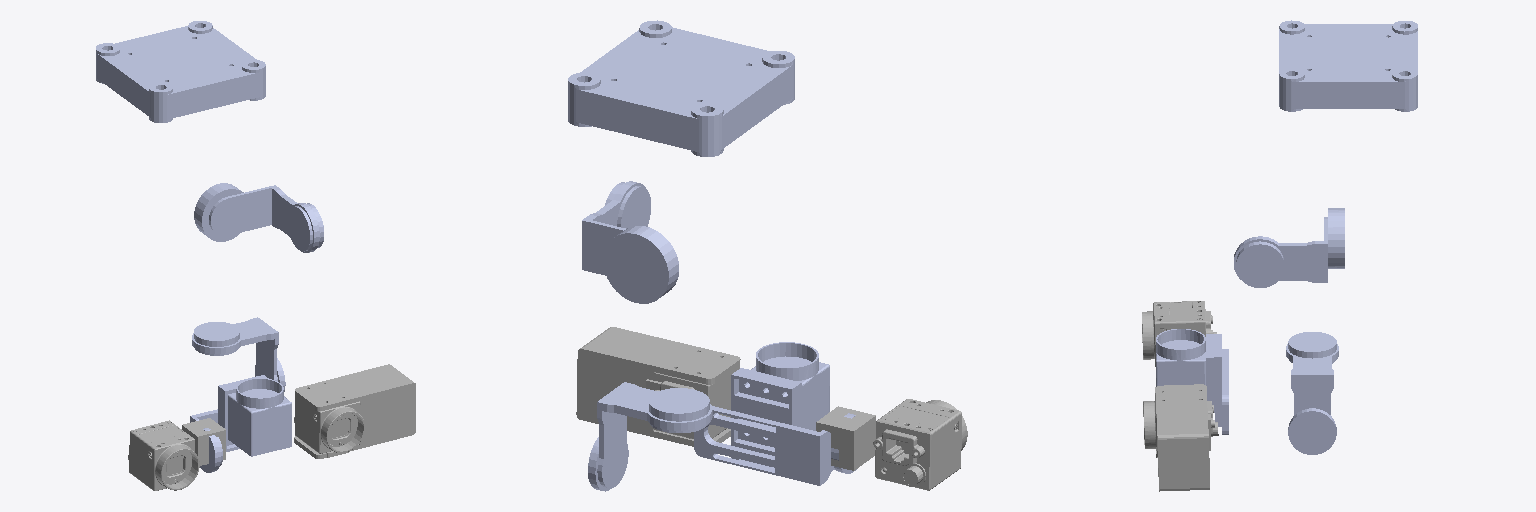
URDF robot description (gimbal_urdf):
<?xml version="1.0" encoding="utf-8"?>
<!-- This URDF was automatically created by SolidWorks to URDF Exporter! Originally created by [author] ([email redacted]) 
     Commit Version: 1.6.0-4-g7f85cfe  Build Version: 1.6.7995.38578
     For more information, please see http://wiki.ros.org/sw_urdf_exporter -->
<robot
  name="gimbal_urdf">
  
   <link name="world"/>
  
  
  <link
    name="base_link">
    <inertial>
      <origin
        xyz="-9.4300442725348E-07 4.57605877599437E-05 -0.0159368690056622"
        rpy="0 0 0" />
      <mass
        value="0.0910904317842352" />
      <inertia
        ixx="5.70945310228178E-05"
        ixy="-2.42380441346544E-07"
        ixz="6.8176655800599E-10"
        iyy="5.70921715553873E-05"
        iyz="-3.3085274037214E-08"
        izz="9.12439770704331E-05" />
    </inertial>
    <visual>
      <origin
        xyz="0 0 0"
        rpy="0 0 0" />
      <geometry>
        <mesh
          filename="package://gimbal_urdf/meshes/base_link.STL" />
      </geometry>
      <material
        name="">
        <color
          rgba="0.792156862745098 0.819607843137255 0.933333333333333 1" />
      </material>
    </visual>
    <collision>
      <origin
        xyz="0 0 0"
        rpy="0 0 0" />
      <geometry>
        <mesh
          filename="package://gimbal_urdf/meshes/base_link.STL" />
      </geometry>
    </collision>
  </link>


  <joint name="base_joint" type="fixed">
        <origin xyz="0.0 0.0 0.0" rpy="-0 0 3.14"/>
        <parent link="world"/>
        <child link="base_link"/>
        <calibration rising="0.0"/>
        <dynamics damping="0.0" friction="0.0"/>
        <limit lower="-3.14" upper="3.14" effort="30" velocity="1.0"/>
        
    </joint>



  <link
    name="1st_link">
    <inertial>
      <origin
        xyz="0.000612488321303465 -0.0286309763596522 -0.0593185429425767"
        rpy="0 0 0" />
      <mass
        value="0.107060959532123" />
      <inertia
        ixx="0.000196934846832271"
        ixy="2.49656534789462E-07"
        ixz="1.09695973889776E-06"
        iyy="0.000185088095559958"
        iyz="-5.16833616745353E-05"
        izz="7.00531346600684E-05" />
    </inertial>
    <visual>
      <origin
        xyz="0 0 0"
        rpy="0 0 0" />
      <geometry>
        <mesh
          filename="package://gimbal_urdf/meshes/1st_link.STL" />
      </geometry>
      <material
        name="">
        <color
          rgba="0.792156862745098 0.819607843137255 0.933333333333333 1" />
      </material>
    </visual>
    <collision>
      <origin
        xyz="0 0 0"
        rpy="0 0 0" />
      <geometry>
        <mesh
          filename="package://gimbal_urdf/meshes/1st_link.STL" />
      </geometry>
    </collision>
  </link>
  <joint
    name="1st_to_base"
    type="continuous">
    <origin
      xyz="0 0 -0.0330000001923871"
      rpy="0 0 0" />
    <parent
      link="base_link" />
    <child
      link="1st_link" />
    <axis
      xyz="0 0 -1" />
  </joint>
  <link
    name="2nd_link">
    <inertial>
      <origin
        xyz="0.0200048867849182 0.0368256937315781 -9.79714342793092E-05"
        rpy="0 0 0" />
      <mass
        value="0.0983165735824386" />
      <inertia
        ixx="0.000109833495785838"
        ixy="-4.74753089760285E-05"
        ixz="1.40913227501525E-07"
        iyy="5.2834005164931E-05"
        iyz="2.39439248377496E-07"
        izz="0.000137821393836787" />
    </inertial>
    <visual>
      <origin
        xyz="0 0 0"
        rpy="0 0 0" />
      <geometry>
        <mesh
          filename="package://gimbal_urdf/meshes/2nd_link.STL" />
      </geometry>
      <material
        name="">
        <color
          rgba="0.792156862745098 0.819607843137255 0.933333333333333 1" />
      </material>
    </visual>
    <collision>
      <origin
        xyz="0 0 0"
        rpy="0 0 0" />
      <geometry>
        <mesh
          filename="package://gimbal_urdf/meshes/2nd_link.STL" />
      </geometry>
    </collision>
  </link>
  <joint
    name="2nd_to_1st"
    type="continuous">
    <origin
      xyz="0 -0.0300000000000004 -0.1105"
      rpy="0 0 0" />
    <parent
      link="1st_link" />
    <child
      link="2nd_link" />
    <axis
      xyz="-0.0213317953568541 0.999772451364236 0" />
  </joint>
  <link
    name="3rd_link">
    <inertial>
      <origin
        xyz="-0.00225804464705422 0.000544650991001358 0.0053630724738731"
        rpy="0 0 0" />
      <mass
        value="0.0721429178544656" />
      <inertia
        ixx="2.6819129212198E-05"
        ixy="-1.50898340478689E-06"
        ixz="-3.44997818115543E-06"
        iyy="9.30391943602316E-05"
        iyz="-4.18238038567755E-07"
        izz="8.05024525590722E-05" />
    </inertial>
    <visual>
      <origin
        xyz="0 0 0"
        rpy="0 0 0" />
      <geometry>
        <mesh
          filename="package://gimbal_urdf/meshes/3rd_link.STL" />
      </geometry>
      <material
        name="">
        <color
          rgba="0.792156862745098 0.819607843137255 0.933333333333333 1" />
      </material>
    </visual>
    <collision>
      <origin
        xyz="0 0 0"
        rpy="0 0 0" />
      <geometry>
        <mesh
          filename="package://gimbal_urdf/meshes/3rd_link.STL" />
      </geometry>
    </collision>
  </link>
  <joint
    name="3rd_to_2nd"
    type="continuous">
    <origin
      xyz="0.0334084763318338 0.072604162231681 -6.5599807613087E-05"
      rpy="0 0 0" />
    <parent
      link="2nd_link" />
    <child
      link="3rd_link" />
    <axis
      xyz="-0.999760648161562 -0.0213315435160447 0.00485918087707388" />
  </joint>
  <link
    name="EE">
    <inertial>
      <origin
        xyz="-0.00970850334324157 0.00697927622075006 -8.53198841354597E-05"
        rpy="0 0 0" />
      <mass
        value="0.0801973434031241" />
      <inertia
        ixx="1.56708328301031E-05"
        ixy="-4.55735429472692E-08"
        ixz="7.86544519354351E-08"
        iyy="2.13344670006746E-05"
        iyz="-8.15507701985039E-08"
        izz="2.06349478725068E-05" />
    </inertial>
    <visual>
      <origin
        xyz="0 0 0"
        rpy="0 0 0" />
      <geometry>
        <mesh
          filename="package://gimbal_urdf/meshes/EE.STL" />
      </geometry>
      <material
        name="">
        <color
          rgba="0.752941176470588 0.752941176470588 0.752941176470588 1" />
      </material>
    </visual>
    <collision>
      <origin
        xyz="0 0 0"
        rpy="0 0 0" />
      <geometry>
        <mesh
          filename="package://gimbal_urdf/meshes/EE.STL" />
      </geometry>
    </collision>
  </link>
  <joint
    name="EE_to_3rd"
    type="fixed">
    <origin
      xyz="-0.0179332160533064 -0.00364012462313075 0.00378716800778015"
      rpy="0 0 0" />
    <parent
      link="3rd_link" />
    <child
      link="EE" />
    <axis
      xyz="0 0 0" />
  </joint>

  <link
    name="rcam_link">
    <inertial>
      <origin
        xyz="-0.00970850334324157 0.00697927622075006 -8.53198841354597E-05"
        rpy="0 0 0" />
      <mass
        value="0.0801973434031241" />
      <inertia
        ixx="1.56708328301031E-05"
        ixy="-4.55735429472692E-08"
        ixz="7.86544519354351E-08"
        iyy="2.13344670006746E-05"
        iyz="-8.15507701985039E-08"
        izz="2.06349478725068E-05" />
    </inertial>
    <visual>
      <origin
        xyz="0 0 0"
        rpy="0 0 0" />
      <geometry>
        <box size="0.02 0.02 0.02" />
      </geometry>
      <material
        name="">
        <color
          rgba="0.752941176470588 0.752941176470588 0.752941176470588 1" />
      </material>
    </visual>
    <collision>
      <origin
        xyz="0 0 0"
        rpy="0 0 0" />
      <geometry>
        <box size="0.02 0.02 0.02" />
      </geometry>
    </collision>
  </link>

<joint
    name="rcam_to_EE"
    type="fixed">
    <origin
      xyz="-0.045 0 0"
      rpy="0 0 0" />
    <parent
      link="EE" />
    <child
      link="rcam_link" />
    <axis
      xyz="0 0 0" />
  </joint>


  <link
    name="lcam_link">
    <inertial>
      <origin
        xyz="-0.00970850334324157 0.00697927622075006 -8.53198841354597E-05"
        rpy="0 0 0" />
      <mass
        value="0.0801973434031241" />
      <inertia
        ixx="1.56708328301031E-05"
        ixy="-4.55735429472692E-08"
        ixz="7.86544519354351E-08"
        iyy="2.13344670006746E-05"
        iyz="-8.15507701985039E-08"
        izz="2.06349478725068E-05" />
    </inertial>
    <visual>
      <origin
        xyz="0 0 0"
        rpy="0 0 0" />
      <geometry>
        <box size="0.02 0.02 0.02" />
      </geometry>
      <material
        name="">
        <color
          rgba="0.752941176470588 0.752941176470588 0.752941176470588 1" />
      </material>
    </visual>
    <collision>
      <origin
        xyz="0 0 0"
        rpy="0 0 0" />
      <geometry>
        <box size="0.02 0.02 0.02" />
      </geometry>
    </collision>
  </link>

<joint
    name="lcam_to_EE"
    type="fixed">
    <origin
      xyz="0.045 0 0"
      rpy="0 0 0" />
    <parent
      link="EE" />
    <child
      link="lcam_link" />
    <axis
      xyz="0 0 0" />
  </joint>


</robot>

--- What the picture shows (computed from the rendered views, not written in the file) ---
The picture shows the robot from 3 angles, left to right: view 1: azimuth 30°, elevation 25°; view 2: azimuth 150°, elevation 25°; view 3: azimuth 270°, elevation 25°; orthographic projection.
Robot: gimbal_urdf — 8 links, 7 joints (3 continuous, 4 fixed); root link world; default pose: all joints at 0.
Visible links, largest first — view 1: EE, base_link, 1st_link, 3rd_link, 2nd_link, lcam_link; view 2: base_link, EE, 3rd_link, 1st_link, 2nd_link, lcam_link; view 3: base_link, EE, 2nd_link, 1st_link, 3rd_link.
Boxes of the visible links, x1=… form: EE: x1=128, y1=364, x2=415, y2=490; base_link: x1=96, y1=21, x2=265, y2=122; 1st_link: x1=194, y1=183, x2=323, y2=252; 3rd_link: x1=190, y1=375, x2=291, y2=472; 2nd_link: x1=192, y1=317, x2=285, y2=391; lcam_link: x1=182, y1=418, x2=225, y2=465; base_link: x1=568, y1=20, x2=794, y2=156; EE: x1=576, y1=327, x2=967, y2=490; 3rd_link: x1=694, y1=342, x2=856, y2=485; 1st_link: x1=582, y1=181, x2=678, y2=303; 2nd_link: x1=588, y1=382, x2=712, y2=491; lcam_link: x1=816, y1=406, x2=875, y2=470; base_link: x1=1279, y1=20, x2=1417, y2=111; EE: x1=1142, y1=301, x2=1218, y2=491; 2nd_link: x1=1286, y1=332, x2=1338, y2=454; 1st_link: x1=1234, y1=208, x2=1344, y2=287; 3rd_link: x1=1156, y1=329, x2=1228, y2=434.
Bounding box of the posed robot: 0.1861 × 0.1592 × 0.2338 m (x, y, z).
5 mesh visuals loaded from 5 distinct referenced files (5 binary STL).